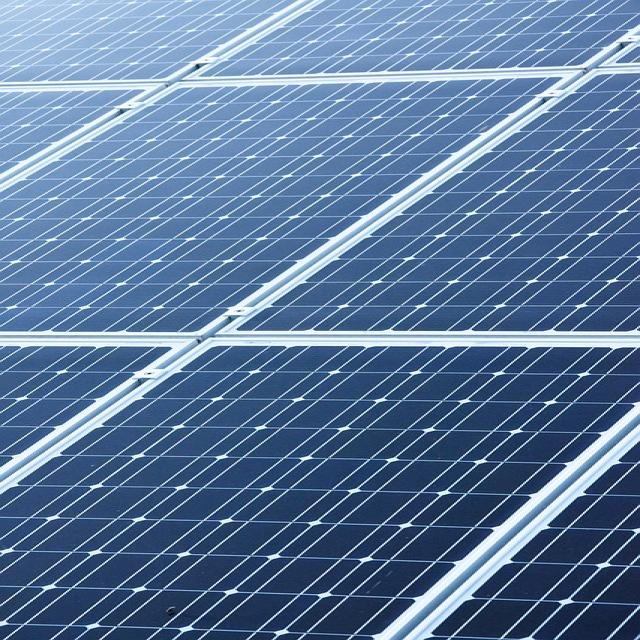clean-solar-panel: (4, 1, 637, 640)
